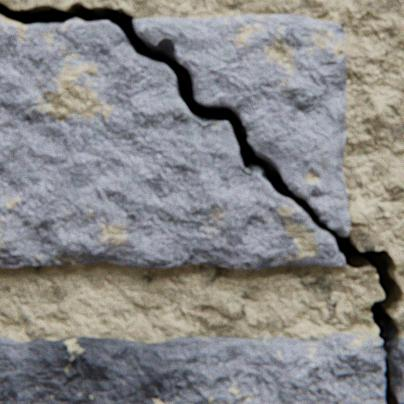broken_brick: (0, 17, 343, 268), (133, 15, 349, 236), (0, 332, 384, 403), (394, 337, 403, 403)
crack: (0, 0, 403, 403)
